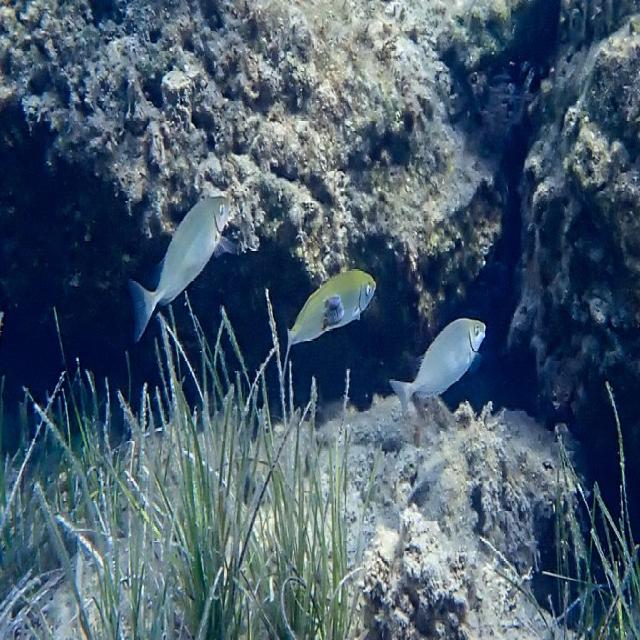Sokar Baligi: (119, 181, 237, 347), (272, 254, 378, 385), (388, 305, 489, 424)
